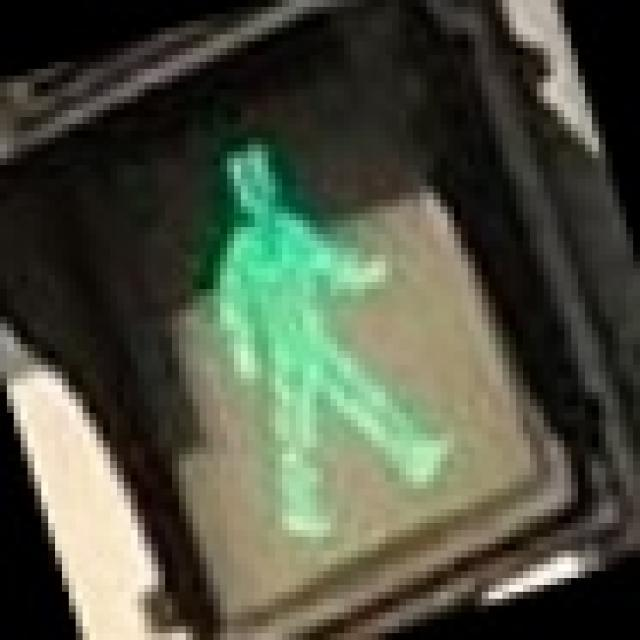geen-crossing: (124, 69, 502, 558)
